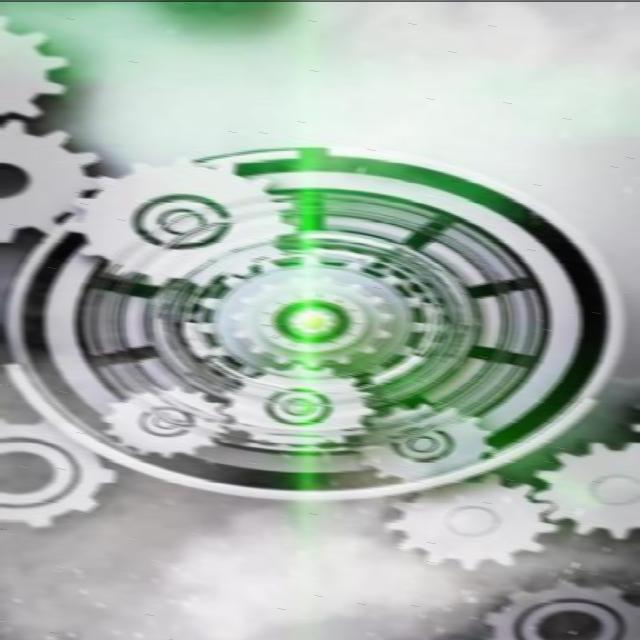Gear: (68, 153, 296, 285), (381, 471, 557, 571), (221, 361, 378, 453), (0, 407, 118, 529), (0, 118, 106, 244), (354, 398, 497, 486), (530, 436, 640, 538), (480, 574, 640, 640), (100, 383, 229, 459), (0, 9, 69, 123)
